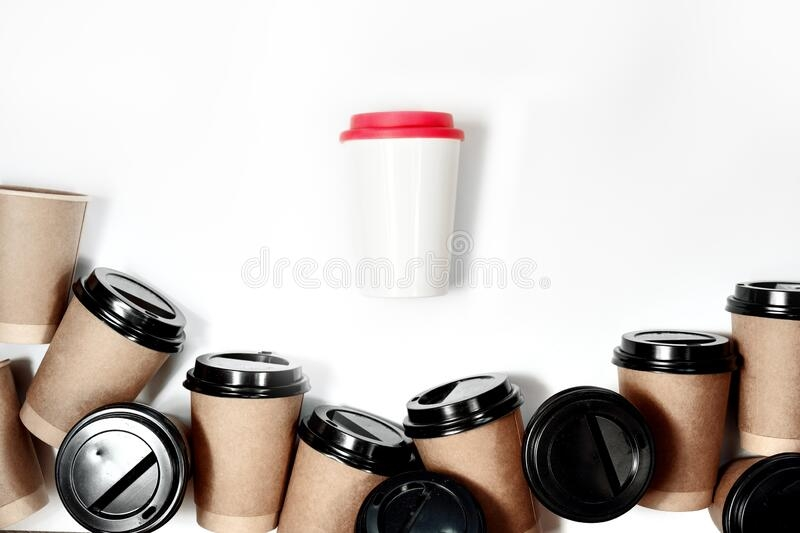paper: (17, 263, 190, 452), (169, 346, 315, 533), (598, 321, 732, 517), (400, 369, 545, 533), (270, 400, 421, 533), (713, 276, 800, 462), (1, 184, 94, 345), (1, 355, 55, 524), (705, 447, 797, 533)
